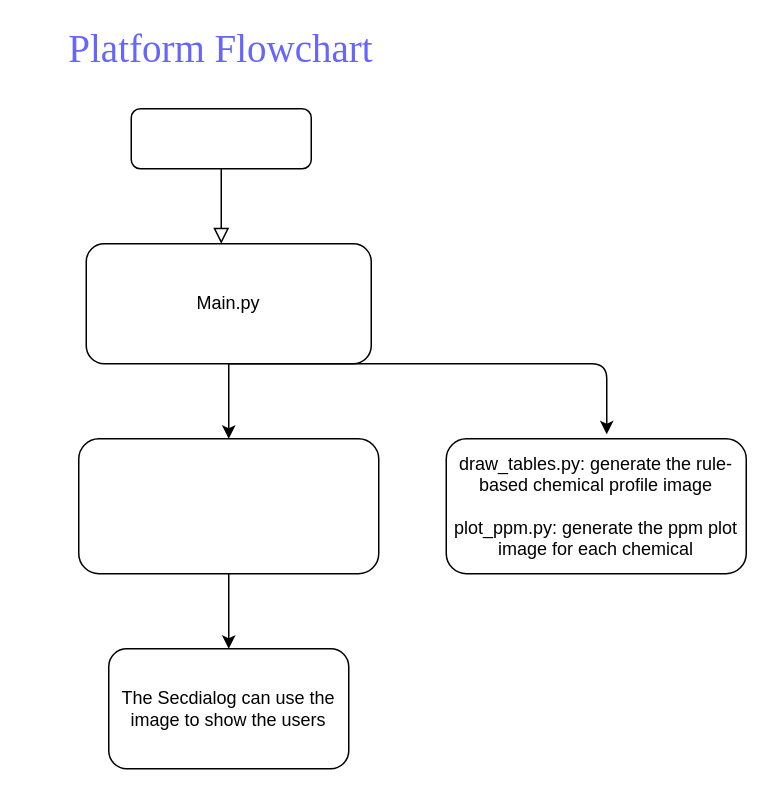
Image size: 773x795. Some labels were removed from this diagram. The centre of each missing label's shape, as x and y in pixels:
"Prediction.py: generate the model prediction result, save as image" goes at (x=228, y=505).
"Qt Creator Main.dialog call the python code" goes at (x=220, y=138).
